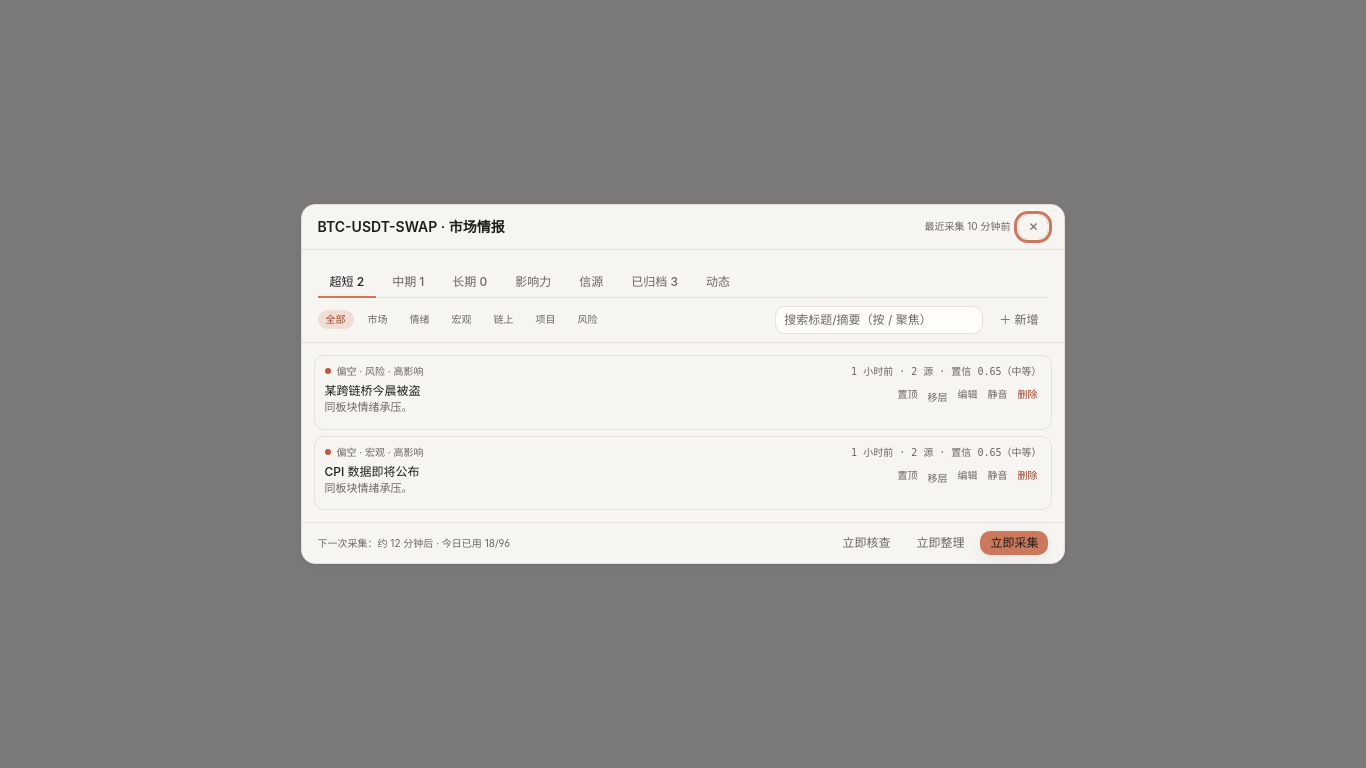
Test: IntelModal › 类别过滤只留下该类
This screenshot has width=1366, height=768.
Expected: the text "某跨链桥今晨被盗" is shown, top-left (324, 383), bottom-right (420, 398)
Click the button "宏观": (462, 320) top-left (444, 310), bottom-right (480, 329)
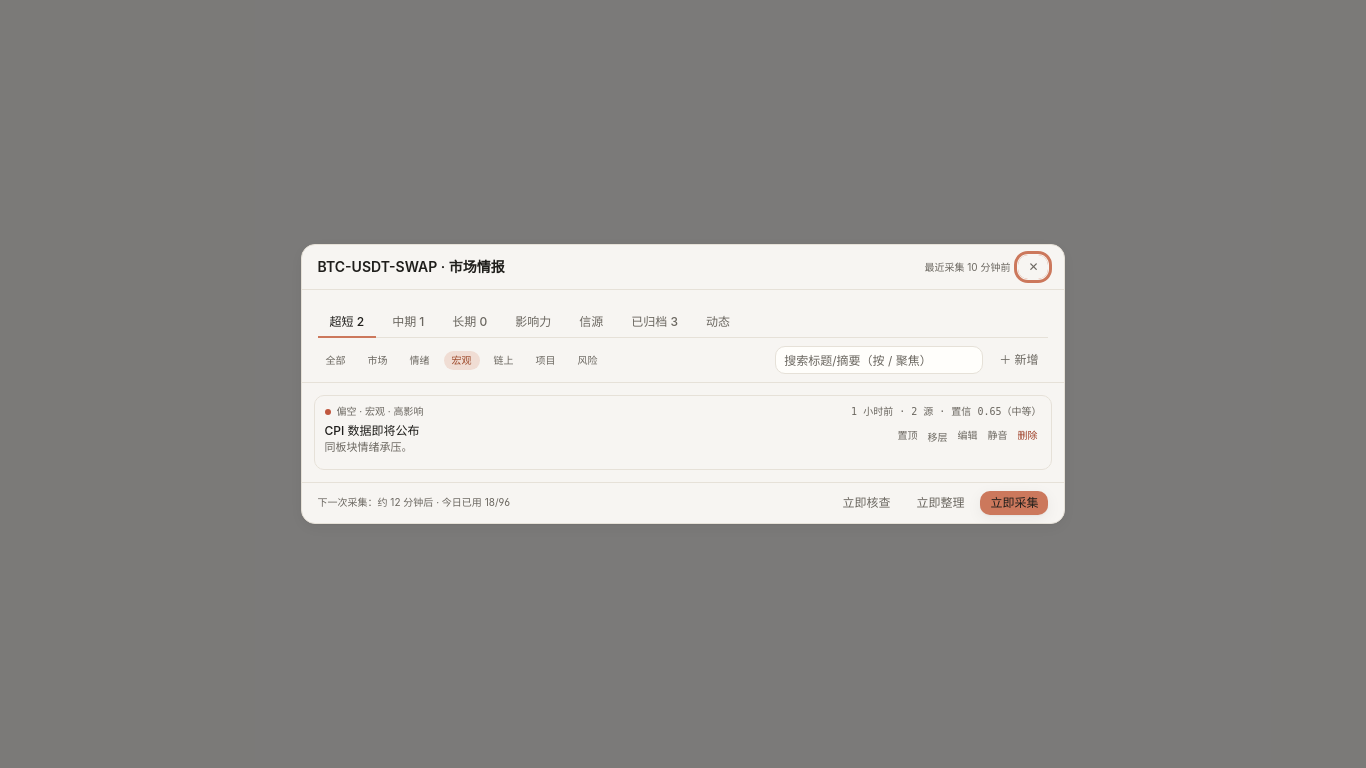
Expected: the text "CPI 数据即将公布" is shown, top-left (324, 423), bottom-right (420, 438)
Expected: the button "某跨链桥今晨被盗" is gone
